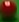brown: (0, 0, 19, 22)
